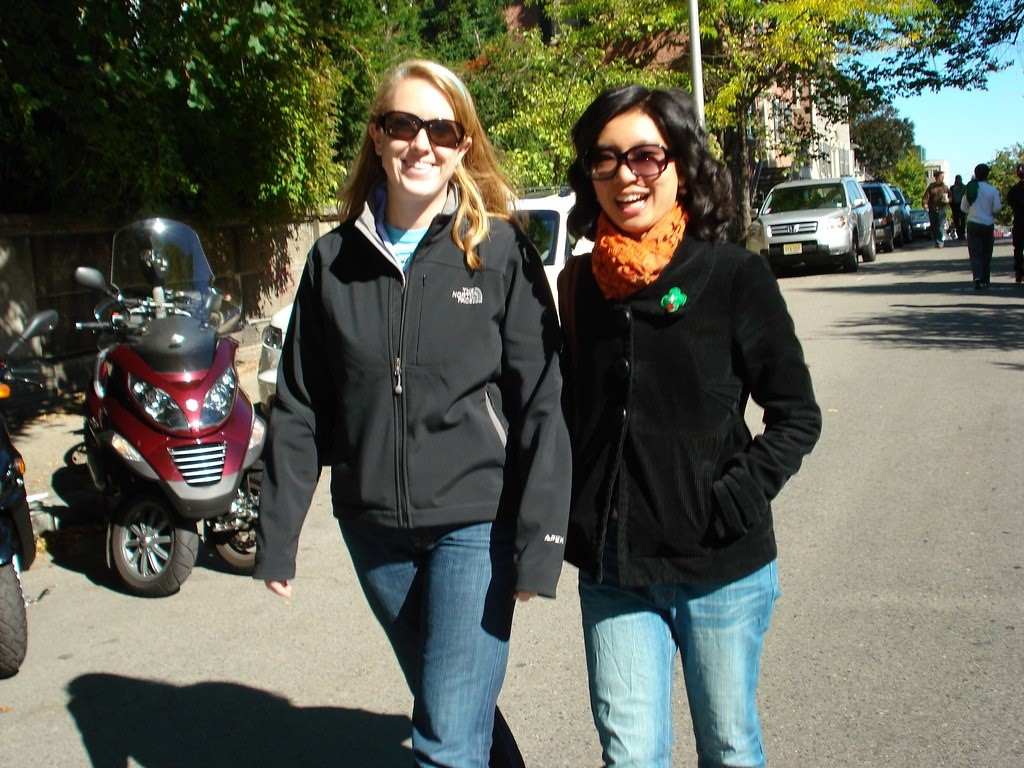face_no_mask: (584, 94, 689, 225), (374, 61, 468, 206)
